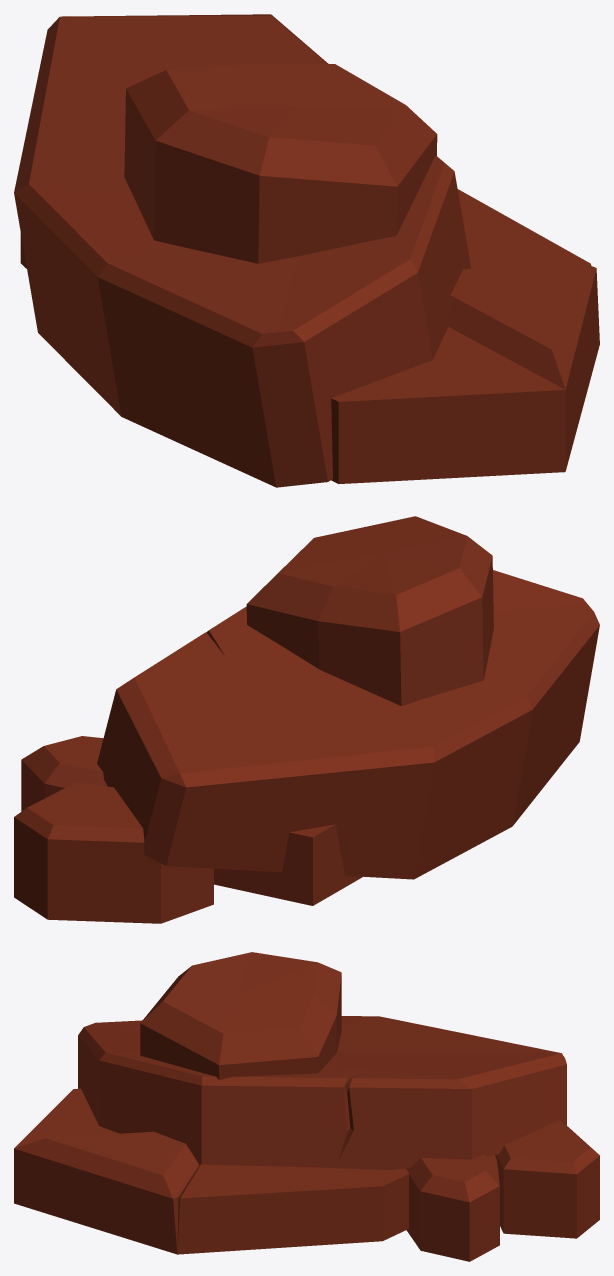
File: lp_Rock_Type1_01_mesh_001_Circle_002.obj
3 renders of one model, top to bottom at view 1: azimuth 30°, elevation 25°; view 2: azimuth 150°, elevation 25°; view 3: azimuth 270°, elevation 25°, orthographic. The views are drawn at different scales.
Visible parts, largest first — view 1: lp_Rock_Type1_01_mesh_001_Circle_002; view 2: lp_Rock_Type1_01_mesh_001_Circle_002; view 3: lp_Rock_Type1_01_mesh_001_Circle_002.
Part boxes in pixels (left/top/right/bottom): lp_Rock_Type1_01_mesh_001_Circle_002: left=14, top=14, right=599, bottom=487; lp_Rock_Type1_01_mesh_001_Circle_002: left=14, top=516, right=599, bottom=923; lp_Rock_Type1_01_mesh_001_Circle_002: left=14, top=952, right=599, bottom=1261.
Size of the model in its own units: 4.18 by 2.58 by 7.03.
